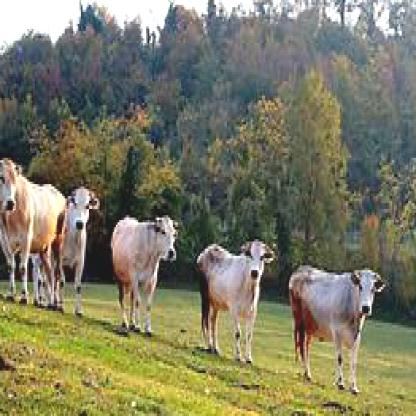cow: (289, 265, 387, 394), (0, 157, 69, 309), (197, 241, 275, 361), (111, 215, 181, 335), (62, 186, 98, 315)
